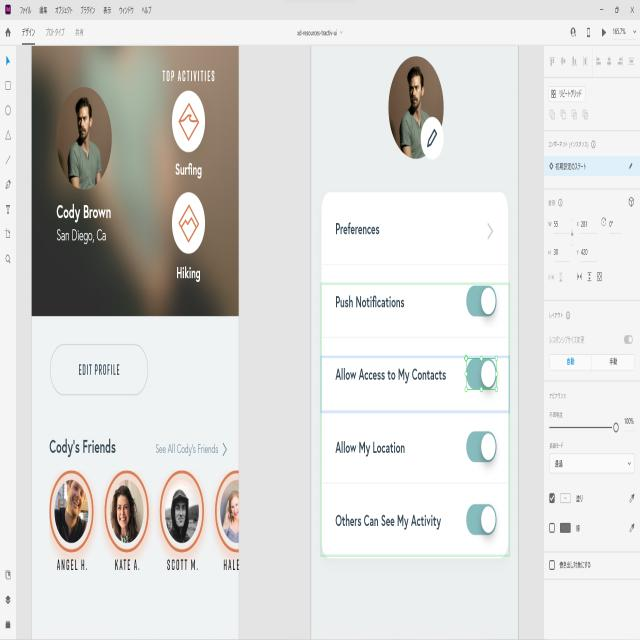toggle: (464, 355, 500, 390), (465, 281, 497, 319), (464, 429, 496, 463), (467, 503, 498, 538), (622, 333, 635, 347)
